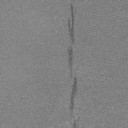red iron: (67, 46, 78, 112), (67, 5, 74, 42), (73, 116, 80, 128)
